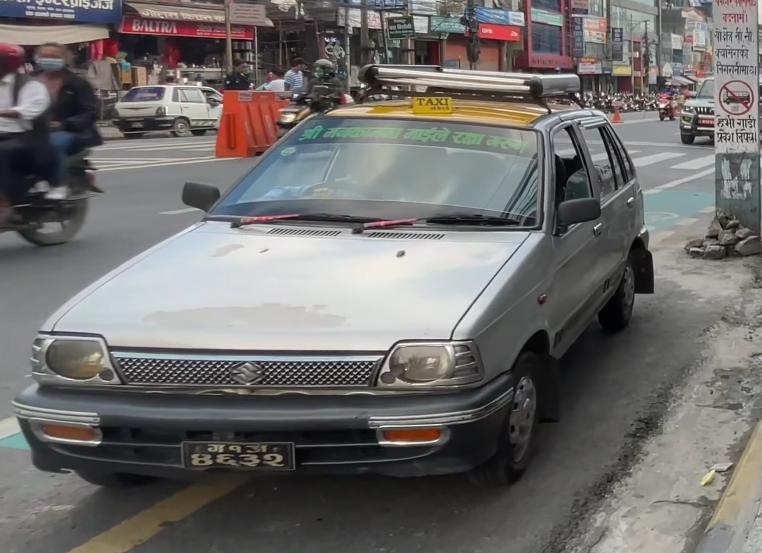SUV: (677, 68, 727, 150)
taxi: (5, 82, 665, 497), (112, 76, 233, 140)
